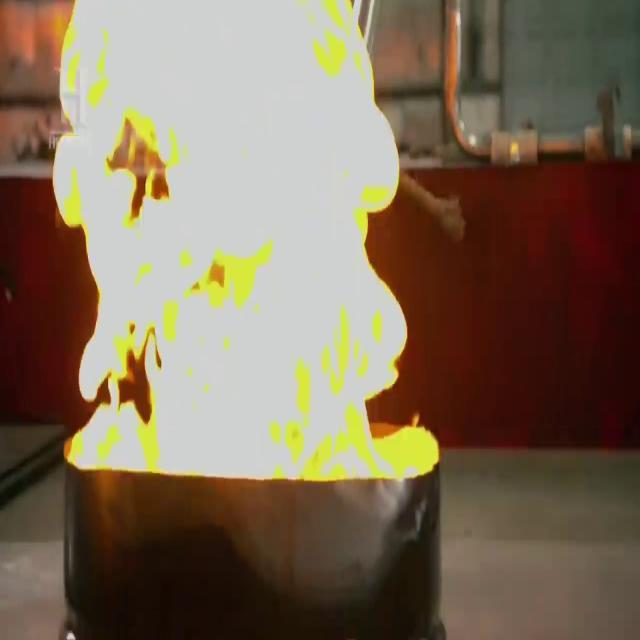Fire: (33, 0, 472, 505)
